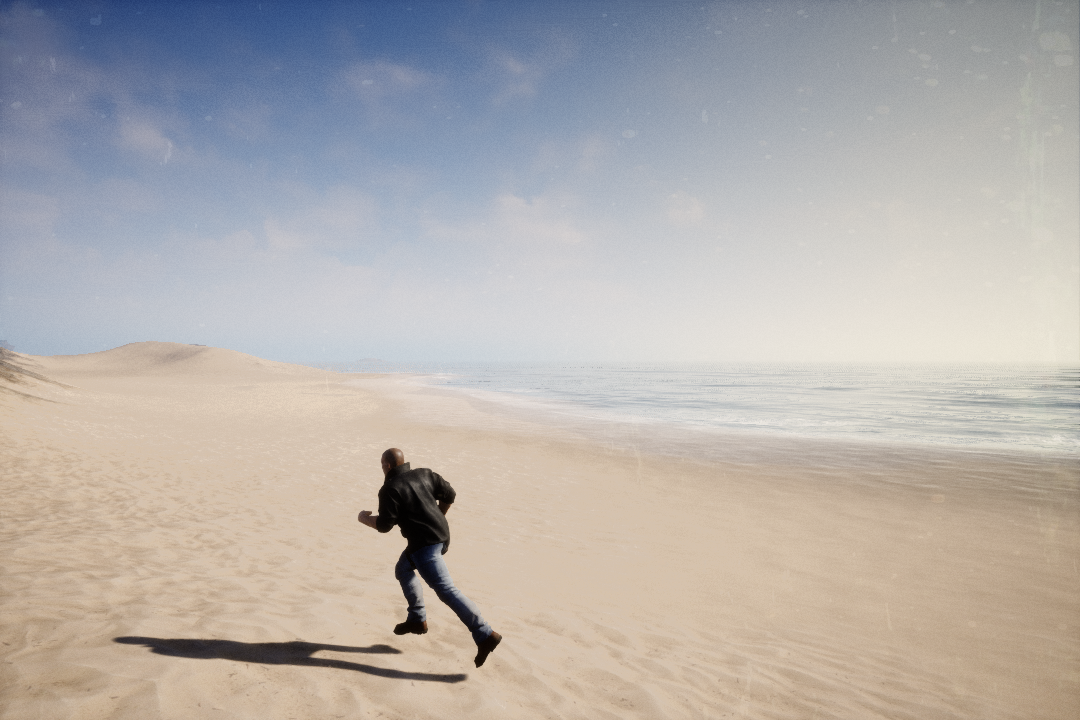person: (355, 443, 515, 674)
